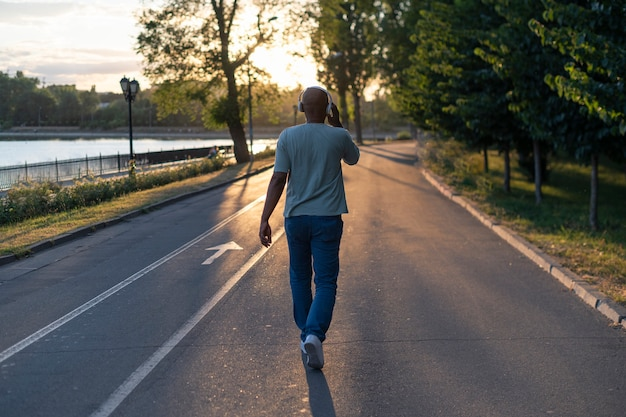Person: (259, 82, 356, 374)
